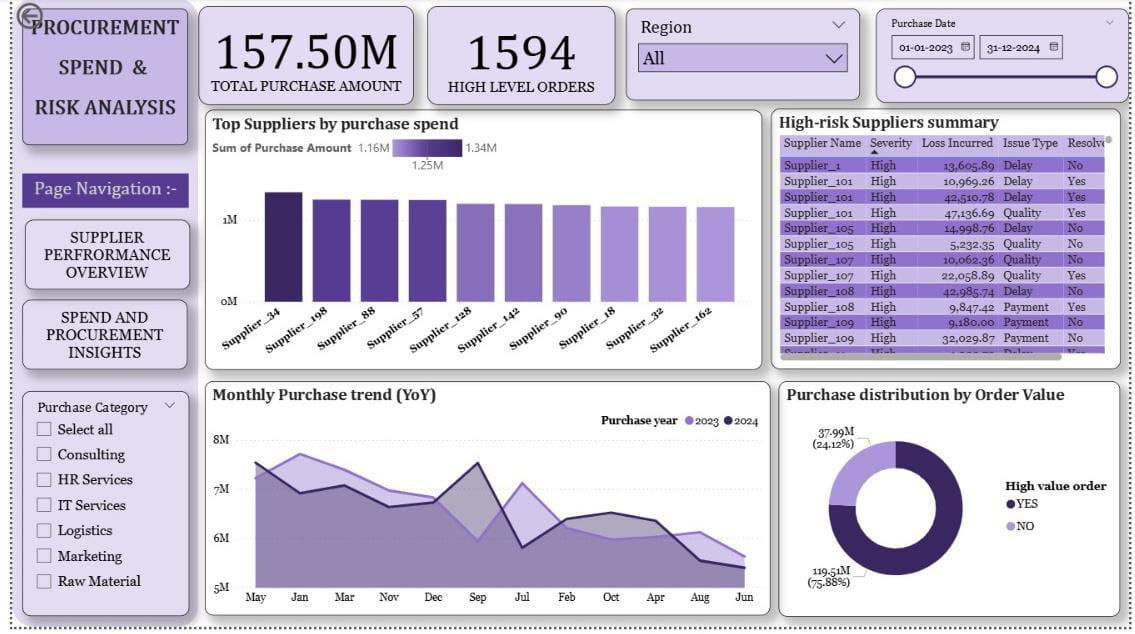

Layout of this report page (visuals, bound fields, positions):
{"tool":"powerbi","page":{"name":"SPEND AND PROCUREMENT INSIGHTS","canvas":[1280,720],"ordinal":1},"visuals":[{"type":"shape","box":[0,0,213.3,720],"z":0},{"type":"textbox","box":[11.7,11.7,190,156.7],"z":1000},{"type":"actionButton","box":[12.1,345.2,189.3,80.3],"z":2000},{"type":"actionButton","box":[13.6,252.9,189.3,80.3],"z":3000},{"type":"card","fields":{"Values":["Sum(Supplier_Spend_Data (2).Purchase Amount)"]},"box":[213.5,9.1,246.8,113.6],"z":4000},{"type":"card","fields":{"Values":["Supplier_Spend_Data (2).HIGH LEVEL ORDER"]},"box":[475.5,9.1,215,113.6],"z":5000},{"type":"slicer","fields":{"Values":["Supplier_Spend_Data (2).Purchase Category"]},"box":[11.5,449.4,191.2,258.2],"z":6000},{"type":"lineChart","title":"Monthly Purchase trend (YoY)","fields":{"Category":["Supplier_Spend_Data (2).Purchase month"],"Y":["Sum(Supplier_Spend_Data (2).Purchase Amount)"],"Series":["Supplier_Spend_Data (2).Purchase year"]},"box":[221.1,438.4,648.2,268.3],"z":7000},{"type":"columnChart","title":"Top Suppliers by purchase spend","fields":{"Category":["Supplier_Spend_Data (2).Supplier Name"],"Y":["Sum(Supplier_Spend_Data (2).Purchase Amount)"]},"box":[221.1,127.2,639,298.3],"z":8000},{"type":"donutChart","title":"Purchase distribution by Order Value","fields":{"Category":["Supplier_Spend_Data (2).High value order"],"Y":["Sum(Supplier_Spend_Data (2).Purchase Amount)"]},"box":[878.7,438.4,391.2,270.2],"z":9000},{"type":"actionButton","box":[0,0,100,40],"z":10000},{"type":"tableEx","title":"High-risk Suppliers summary","fields":{"Values":["Supplier_Incident_Log (2).Supplier Name","Supplier_Incident_Log (2).Severity","Supplier_Incident_Log (2).Loss Incurred","Supplier_Incident_Log (2).Issue Type","Supplier_Incident_Log (2).Resolved Status"]},"box":[869.3,126.6,400.6,298.6],"z":11000},{"type":"slicer","fields":{"Values":["Supplier_Spend_Data (2).Region"]},"box":[703.8,11.5,267.7,105.2],"z":12000},{"type":"slicer","fields":{"Values":["Supplier_Spend_Data (2).Purchase Date"]},"box":[990,12,290,108],"z":13000},{"type":"textbox","box":[12.1,199.9,190.8,39.4],"z":14000}]}

Visuals, with their boxes in screenshot pixels (x1, y1, x2, y2), scaled from the page's 1280x720 canvas onto the 1135x634 screenshot:
shape: detection(0, 0, 189, 633)
textbox: detection(10, 10, 179, 148)
actionButton: detection(11, 304, 179, 375)
actionButton: detection(12, 223, 180, 293)
card - Sum(Supplier_Spend_Data (2).Purchase Amount): detection(189, 8, 408, 108)
card - Supplier_Spend_Data (2).HIGH LEVEL ORDER: detection(422, 8, 612, 108)
slicer - Supplier_Spend_Data (2).Purchase Category: detection(10, 396, 180, 623)
"Monthly Purchase trend (YoY)" lineChart: detection(196, 386, 771, 622)
"Top Suppliers by purchase spend" columnChart: detection(196, 112, 763, 375)
"Purchase distribution by Order Value" donutChart: detection(779, 386, 1126, 624)
actionButton: detection(0, 0, 89, 35)
"High-risk Suppliers summary" tableEx: detection(771, 111, 1126, 374)
slicer - Supplier_Spend_Data (2).Region: detection(624, 10, 861, 103)
slicer - Supplier_Spend_Data (2).Purchase Date: detection(878, 11, 1134, 106)
textbox: detection(11, 176, 180, 211)
